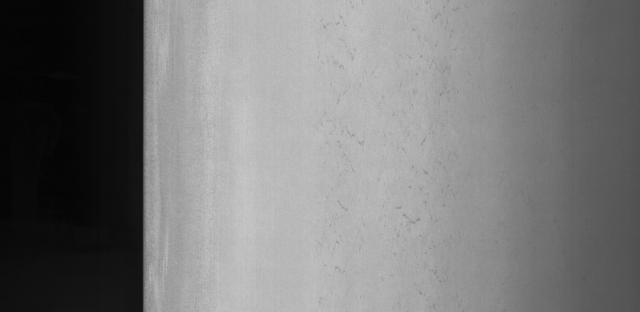silk_spot: (314, 15, 469, 266)
